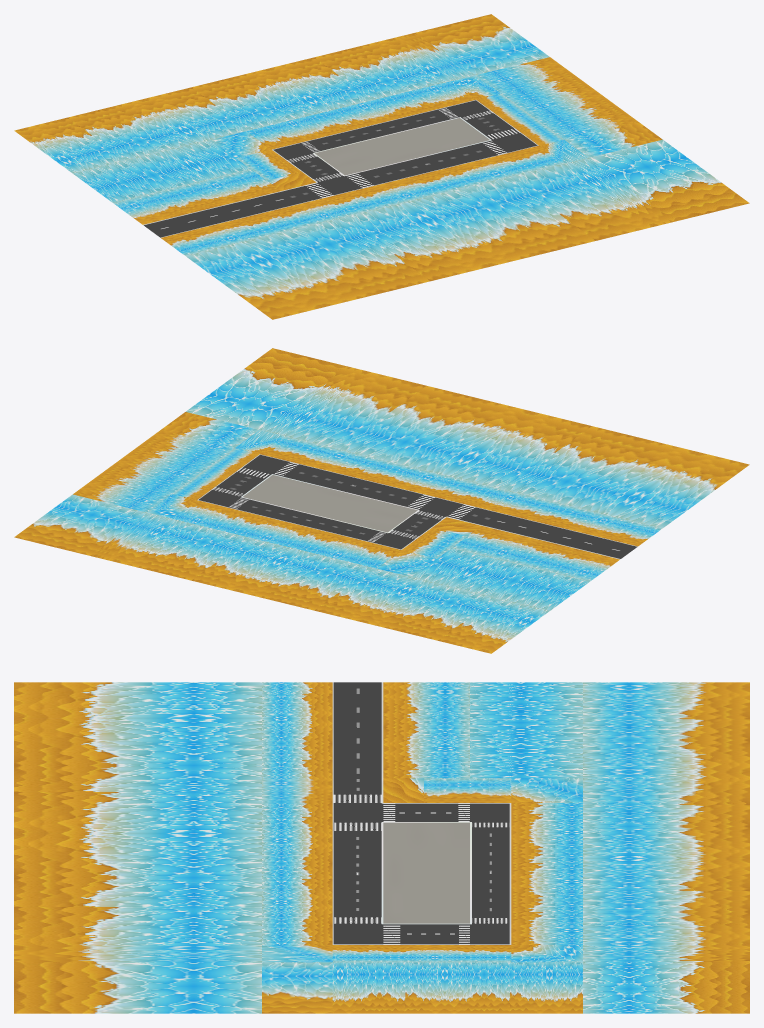
File: beach_ground.fbx
3 views of the same model, one above another, from view 1: azimuth 30°, elevation 25°; view 2: azimuth 150°, elevation 25°; view 3: azimuth 270°, elevation 25° (orthographic). The views are drawn at different scales.
Visible parts, largest first — view 1: road_ground; view 2: road_ground; view 3: road_ground.
Part boxes in pixels (<box>): road_ground: <box>14,14,749,319</box>; road_ground: <box>14,348,749,653</box>; road_ground: <box>14,682,749,1013</box>.
Size of the model in its own units: 2084 by 0.000319 by 1955.
